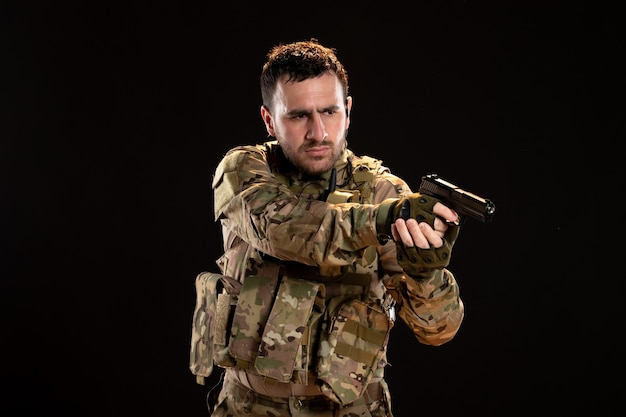gun: (417, 173, 496, 226)
